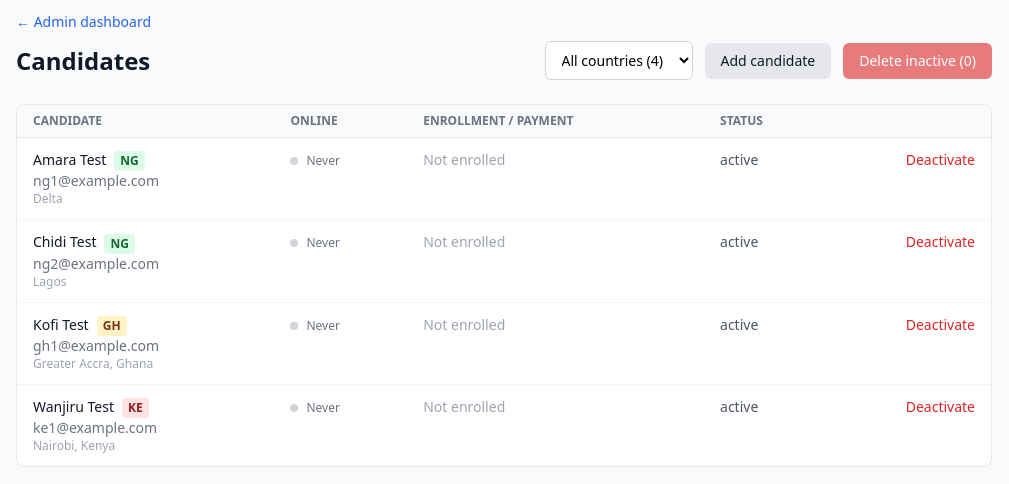
Test: AdminCandidatesPage — country tags and filter › filters by country, with a count for each of the four
Expected: the text "Kofi Test GH" is shown, [33, 314, 127, 336]
Select "Kenya (1)" in the dropdown named "Filter candidates by country": x=618, y=60 [544, 41, 692, 80]
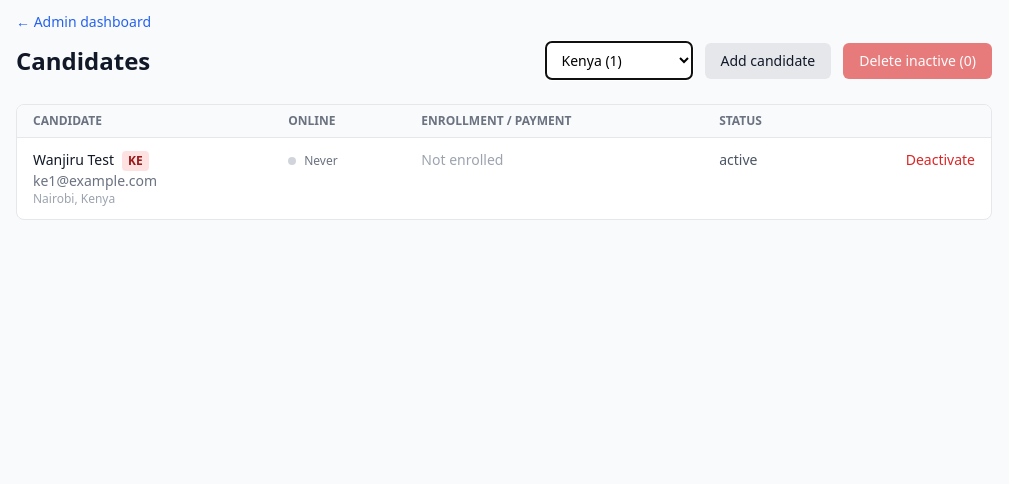
Expected: the text "Wanjiru Test KE" is shown, [33, 150, 149, 171]
Expected: the text "Kofi" is gone
Expected: the text "Amara" is gone
Select "South Africa (0)" in the dropdown named "Filter candidates by country": x=618, y=60 [544, 41, 692, 80]
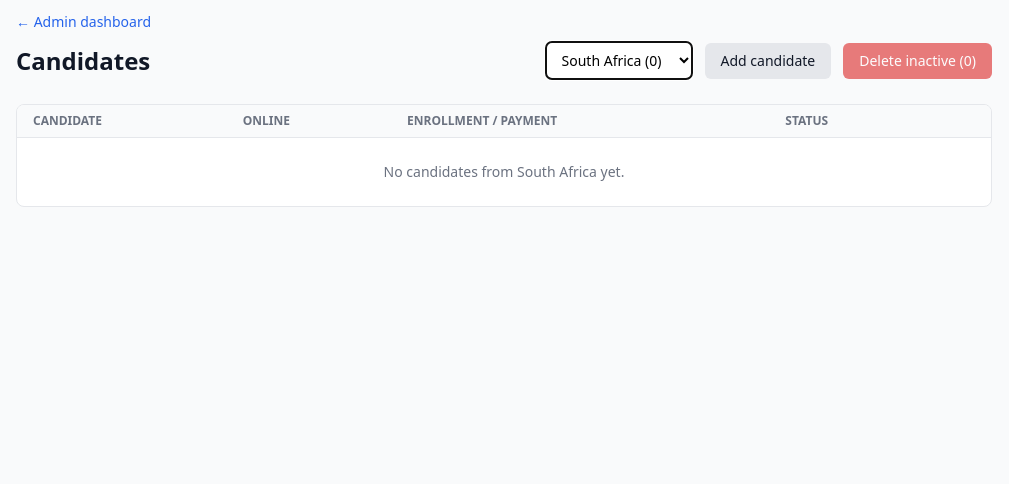
Expected: the text "No candidates from South Africa yet." is shown, [384, 162, 624, 181]
